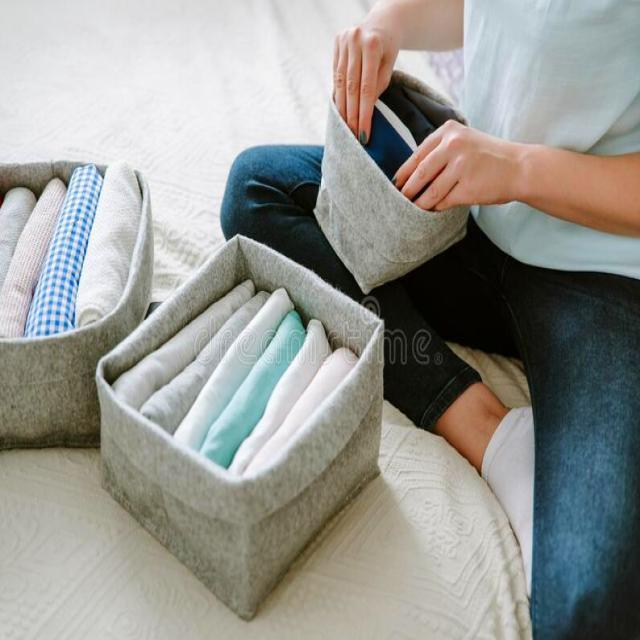clothes: (150, 276, 342, 484), (0, 178, 128, 328)
